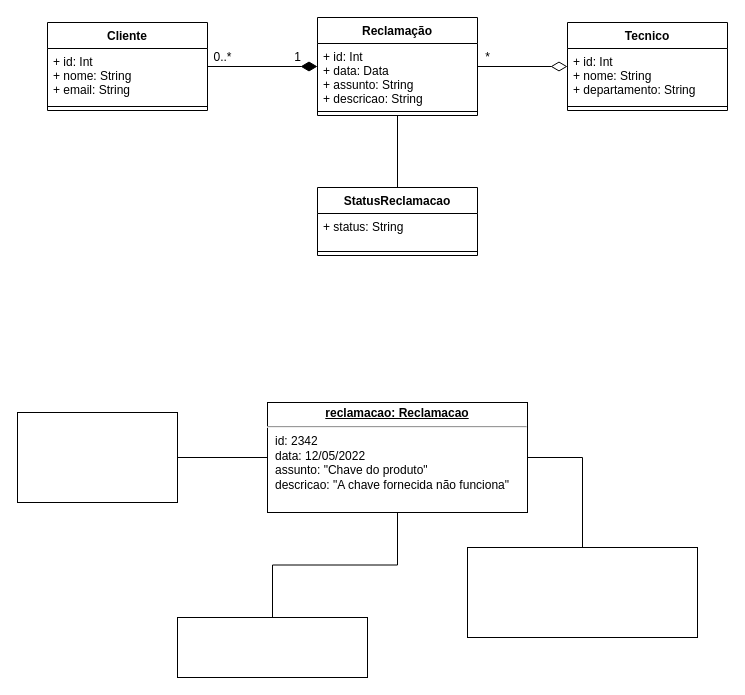
Some shapes in this 745 by 695 pixel diagram are drawn without their labels. Each missing label, with the centre of its shape:
cliente: Cliente id: 123 nome: "Tabata" email: "tabata@uni.com": (x=97, y=457)
status: Status status: "Em análise": (x=272, y=647)
tec: Tecnico id: 7643 nome: "Caique" departamento: "Licenças": (x=582, y=592)
